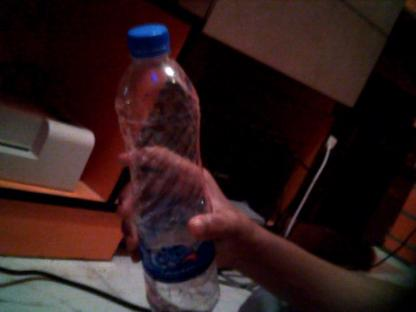Plastic Bottle: (115, 20, 222, 312)
